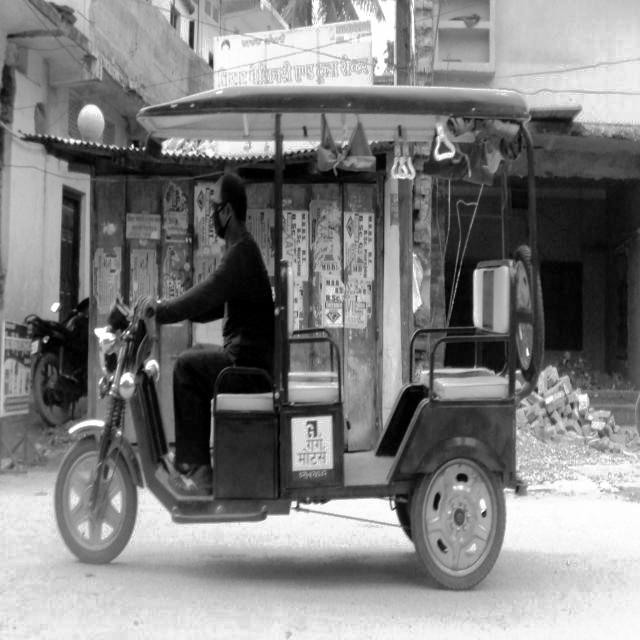Toto: (67, 75, 539, 586)
